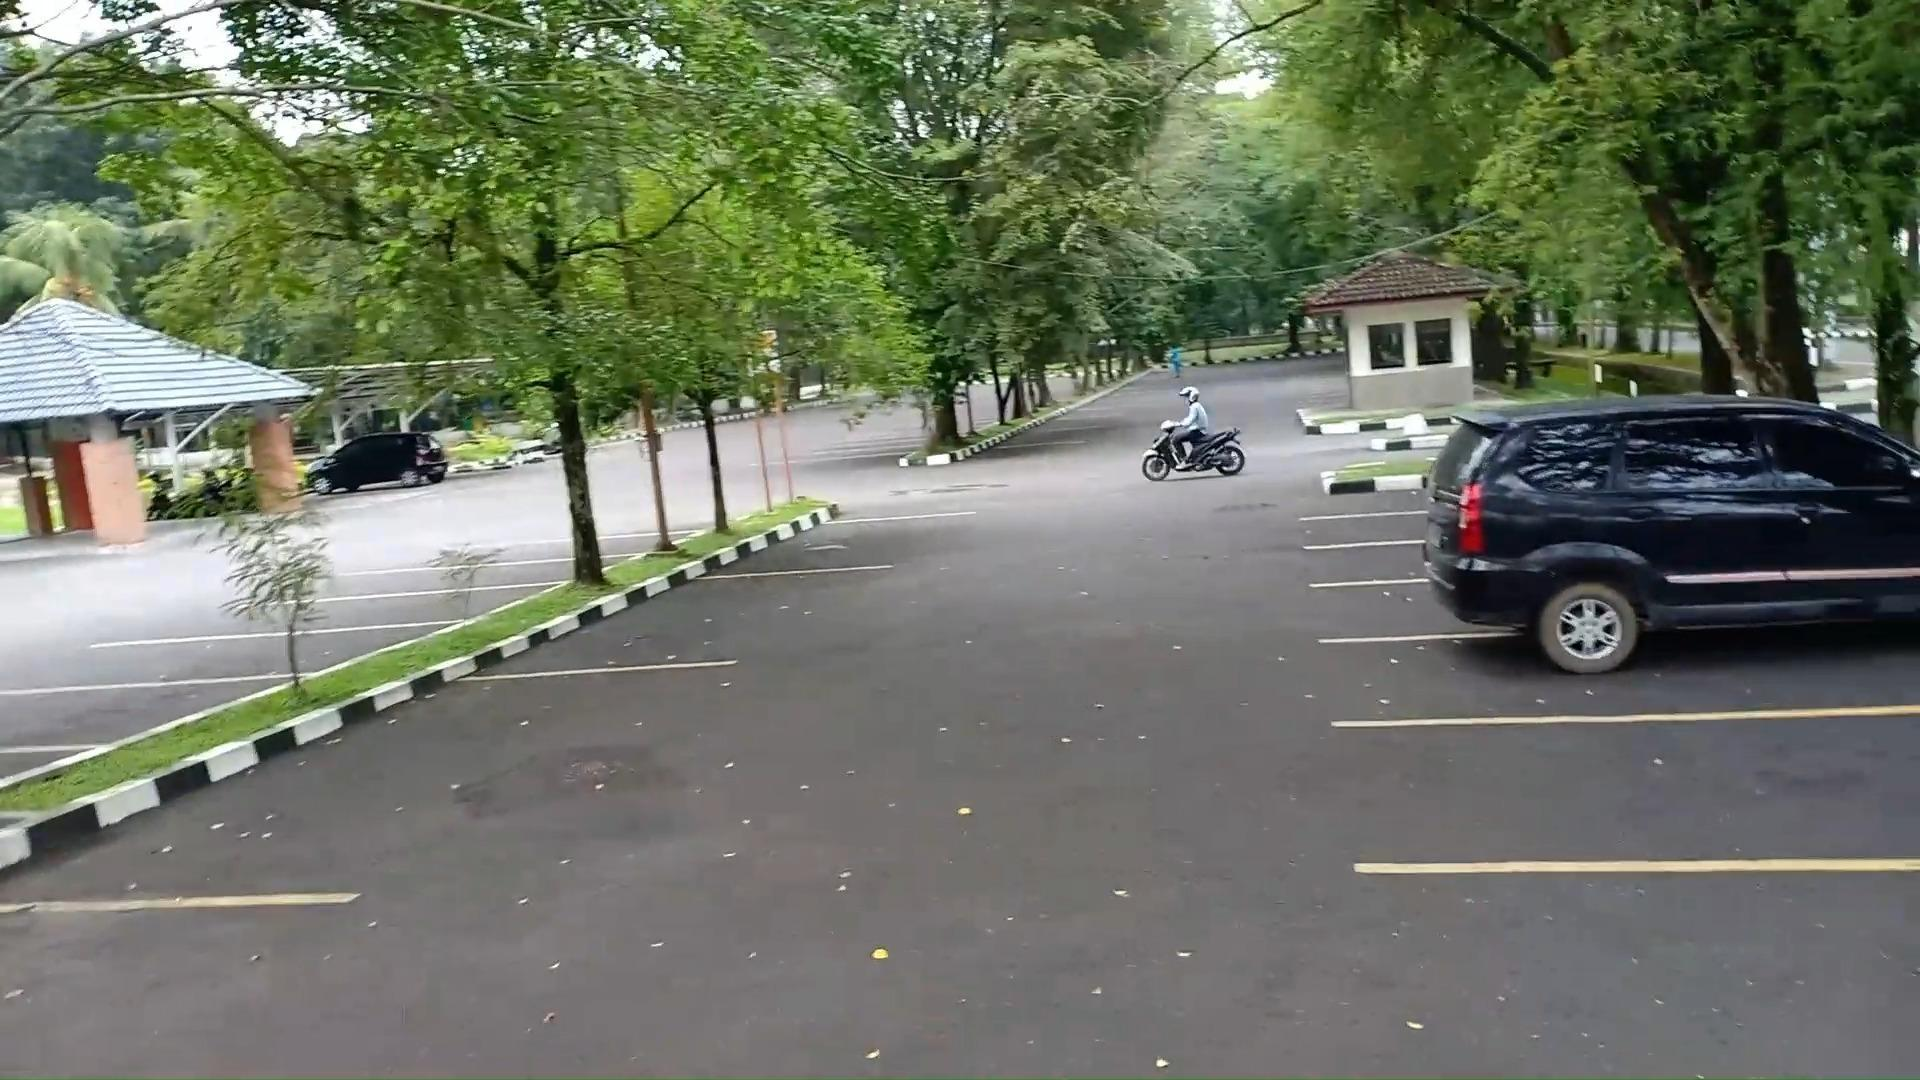empty: (319, 664, 689, 905), (1401, 716, 1920, 876), (647, 568, 879, 674), (0, 676, 259, 758), (154, 625, 378, 682), (751, 514, 927, 574), (328, 586, 522, 630), (434, 559, 574, 590)
occupied: (1420, 540, 1920, 720)
